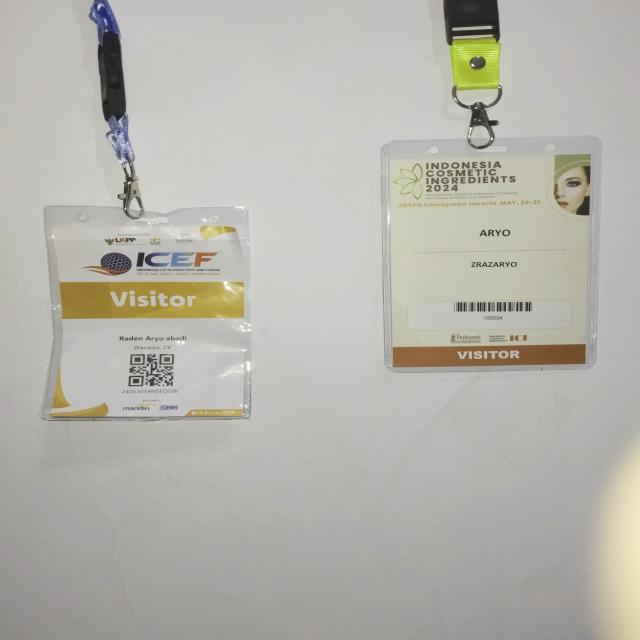ID_card: (380, 134, 600, 372), (39, 204, 252, 422)
